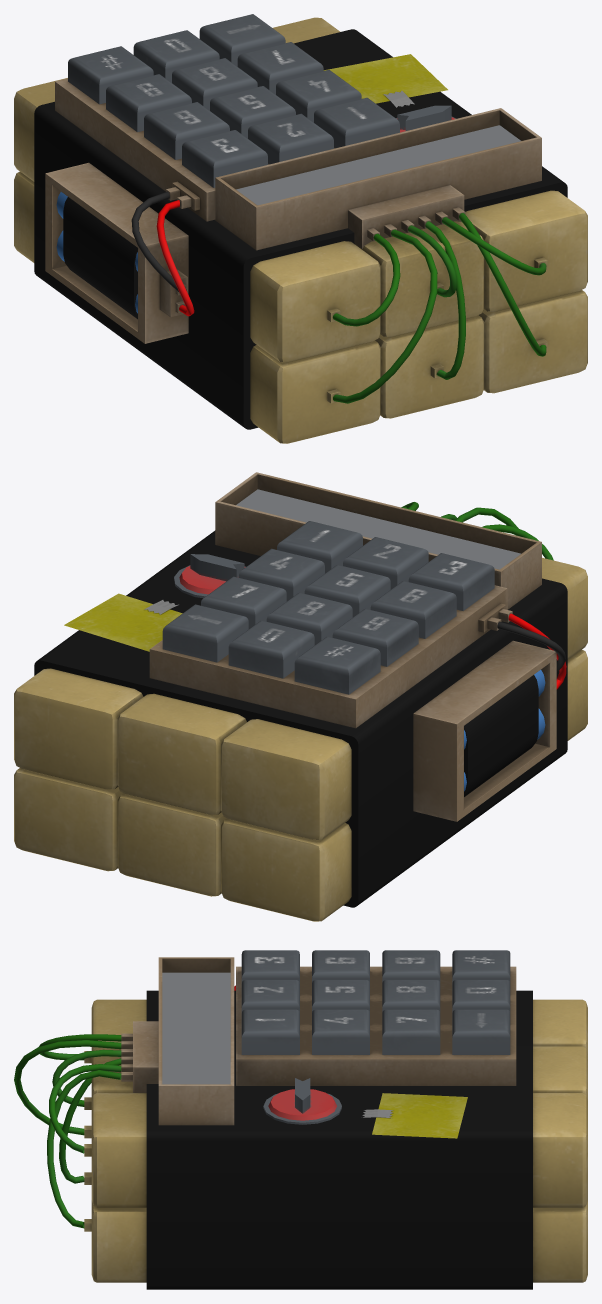
3 renders of one model, top to bottom at view 1: azimuth 30°, elevation 25°; view 2: azimuth 150°, elevation 25°; view 3: azimuth 270°, elevation 25°, orthographic. The views are drawn at different scales.
Visible parts, largest first — view 1: c4, plastik, led, batre, bawahan numpad, Cube.005, sticky note, k3, k9, kpagar, k6, k1 (+8 smaller); view 2: c4, plastik, batre, led, bawahan numpad, sticky note, kpagar, kpanah, k0, k9, k6, k3 (+7 smaller); view 3: plastik, c4, bawahan numpad, led, sticky note, kpanah, k1, k7, k4, Cube.005, knob, k3 (+7 smaller).
Part boxes in pixels (x1=…): c4: x1=14, y1=17, x2=587, y2=443; plastik: x1=34, y1=29, x2=567, y2=429; led: x1=215, y1=108, x2=541, y2=250; batre: x1=45, y1=162, x2=194, y2=343; bawahan numpad: x1=55, y1=78, x2=334, y2=221; Cube.005: x1=348, y1=185, x2=465, y2=248; sticky note: x1=323, y1=54, x2=447, y2=107; k3: x1=182, y1=130, x2=267, y2=187; k9: x1=106, y1=74, x2=191, y2=132; kpagar: x1=68, y1=46, x2=153, y2=104; k6: x1=144, y1=102, x2=229, y2=159; k1: x1=314, y1=97, x2=399, y2=148; c4: x1=14, y1=502, x2=587, y2=921; plastik: x1=34, y1=530, x2=567, y2=907; batre: x1=413, y1=613, x2=566, y2=821; led: x1=215, y1=472, x2=541, y2=609; bawahan numpad: x1=149, y1=585, x2=512, y2=728; sticky note: x1=64, y1=593, x2=182, y2=651; kpagar: x1=294, y1=636, x2=380, y2=694; kpanah: x1=162, y1=604, x2=248, y2=662; k0: x1=228, y1=620, x2=314, y2=678; k9: x1=332, y1=608, x2=418, y2=666; k6: x1=370, y1=581, x2=456, y2=638; k3: x1=408, y1=553, x2=494, y2=610; plastik: x1=146, y1=990, x2=532, y2=1289; c4: x1=14, y1=999, x2=587, y2=1282; bawahan numpad: x1=236, y1=966, x2=516, y2=1085; led: x1=158, y1=957, x2=234, y2=1125; sticky note: x1=362, y1=1093, x2=467, y2=1138; kpanah: x1=452, y1=1009, x2=510, y2=1054; k1: x1=241, y1=1009, x2=299, y2=1054; k7: x1=382, y1=1009, x2=440, y2=1054; k4: x1=312, y1=1009, x2=369, y2=1054; Cube.005: x1=121, y1=1021, x2=158, y2=1092; knob: x1=268, y1=1078, x2=336, y2=1120; k3: x1=241, y1=950, x2=299, y2=983.
Size of the model in its own units: 0.2484 by 0.1385 by 0.347.
1 material, 1 textured.
